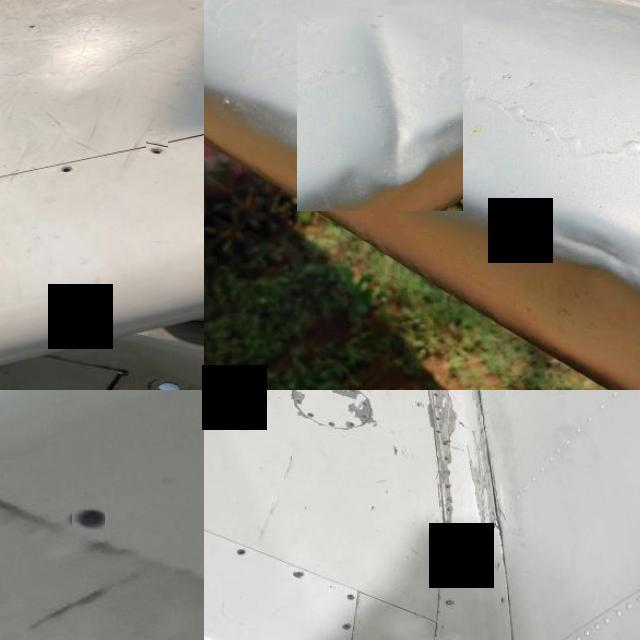Crack: (469, 390, 497, 442), (486, 473, 506, 544)
Dent: (297, 6, 463, 211), (523, 185, 640, 314)
Missing_Fastener: (72, 506, 105, 532), (146, 140, 168, 156), (57, 163, 79, 178), (236, 548, 247, 556), (448, 537, 456, 543), (442, 456, 450, 462), (442, 440, 450, 446), (447, 565, 453, 572), (434, 416, 441, 422), (446, 522, 452, 528), (444, 483, 450, 489), (500, 597, 505, 603), (436, 430, 442, 434), (446, 508, 451, 510)
